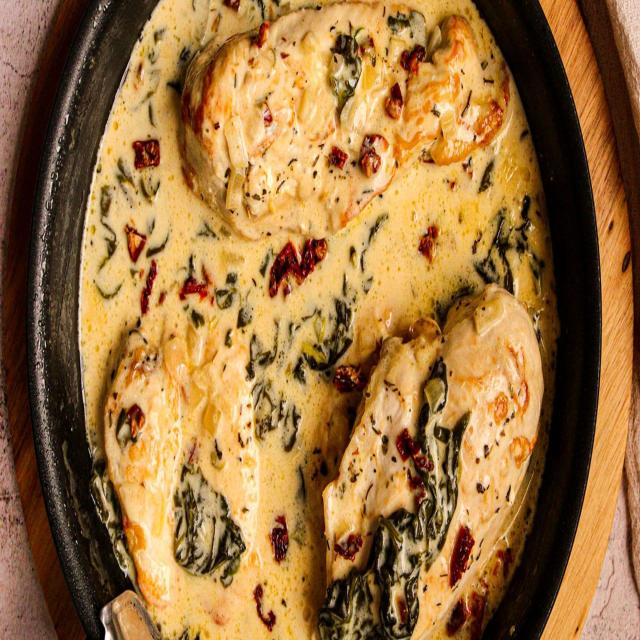pollo: (179, 2, 517, 214)
